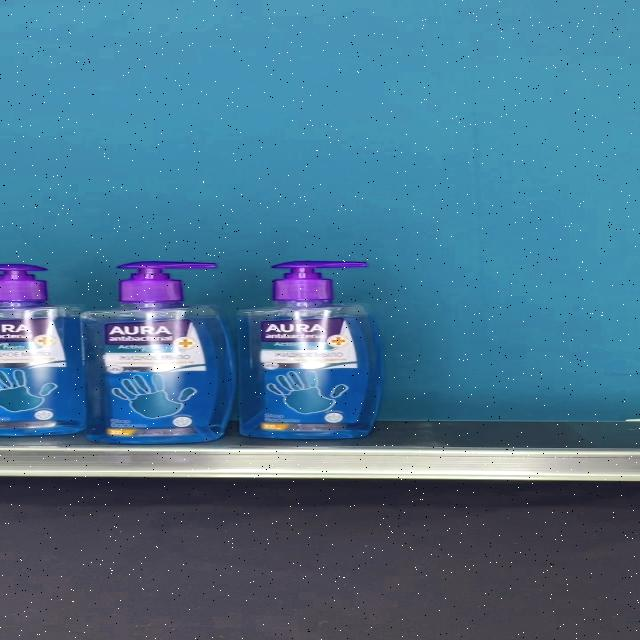Bottle: (81, 261, 236, 443), (235, 260, 386, 439)
Cap: (117, 261, 216, 303), (271, 260, 366, 302)
